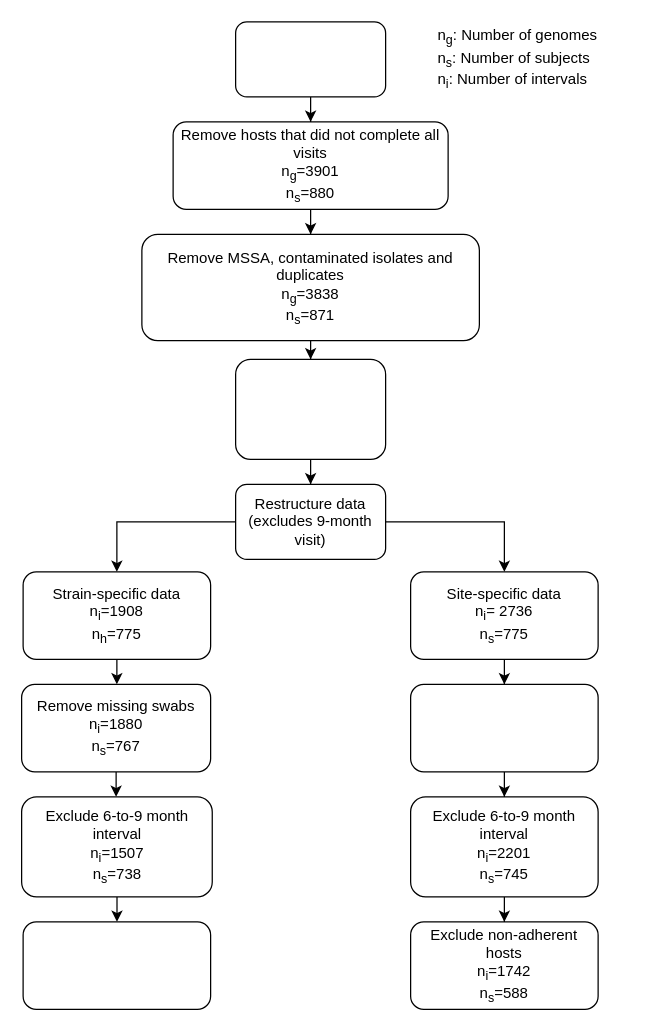
Some shapes in this 645 by 1031 pixel diagram are drawn without their labels. Each missing label, with the box of its shape:
Exclude non-adherent hosts n i =1181 n s =582: (22, 921, 211, 1009)
Limit to ST5 and ST8 n g =3310 n s =810: (234, 358, 386, 459)
Original data n g =3998 n s =897: (234, 21, 386, 97)
Remove missing swabs n i =2726 n s =774: (409, 683, 598, 772)
